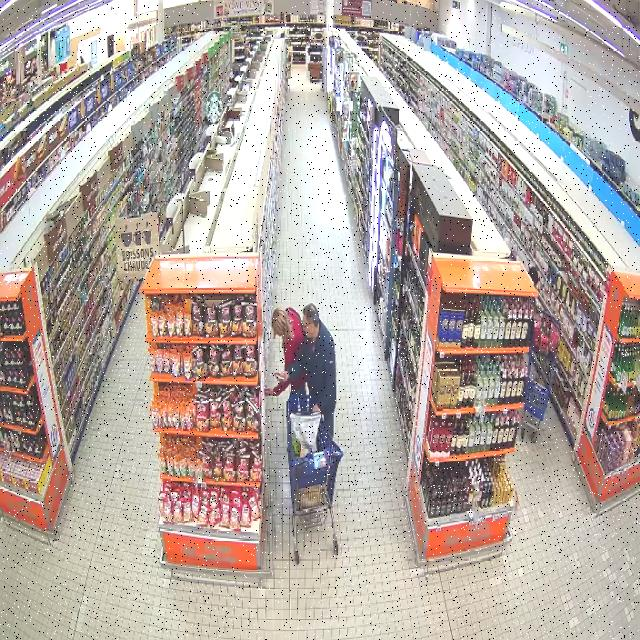article: (274, 373, 285, 380)
hands: (263, 387, 274, 397), (312, 402, 320, 412), (281, 372, 289, 381)
person: (275, 303, 335, 437), (272, 307, 303, 364), (266, 373, 306, 399)
